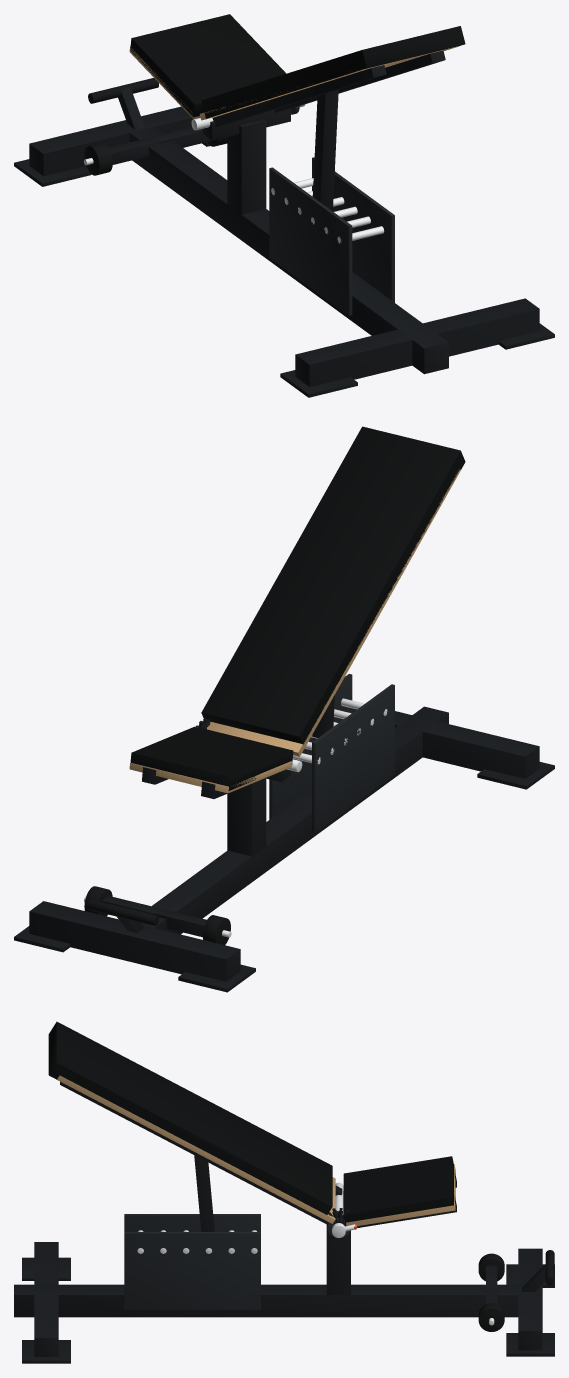
3 views of the same model, one above another, from view 1: azimuth 30°, elevation 25°; view 2: azimuth 150°, elevation 25°; view 3: azimuth 270°, elevation 25° (orthographic). The views are drawn at different scales.
Visible parts, largest first — view 1: frame, pad.001, frame.001, shroud, pad, shroud.001, frame.004, frame.007, frame.013, frame.009, frame.010, frame.008 (+9 smaller); view 2: pad, frame, frame.004, shroud, pad.001, frame.001, frame.007, shroud.001, wood, wood.001, frame.002, frame.005 (+2 smaller); view 3: pad, frame, shroud.001, pad.001, frame.001, frame.004, shroud, wood, frame.007, frame.010, frame.013, frame.003 (+5 smaller).
Part boxes in pixels (x1=…): frame: x1=129, y1=127, x2=448, y2=374; pad.001: x1=130, y1=14, x2=285, y2=117; frame.001: x1=295, y1=298, x2=539, y2=386; shroud: x1=269, y1=167, x2=352, y2=315; pad: x1=201, y1=26, x2=465, y2=118; shroud.001: x1=312, y1=157, x2=394, y2=302; frame.004: x1=29, y1=106, x2=199, y2=176; frame.007: x1=227, y1=119, x2=266, y2=224; frame.013: x1=312, y1=89, x2=338, y2=208; frame.009: x1=212, y1=65, x2=386, y2=127; frame.010: x1=274, y1=50, x2=445, y2=112; frame.008: x1=202, y1=109, x2=290, y2=140; pad: x1=201, y1=426, x2=465, y2=744; frame: x1=141, y1=706, x2=448, y2=934; frame.004: x1=29, y1=901, x2=240, y2=981; shroud: x1=312, y1=684, x2=394, y2=832; pad.001: x1=130, y1=726, x2=293, y2=790; frame.001: x1=352, y1=708, x2=539, y2=778; frame.007: x1=227, y1=778, x2=266, y2=856; shroud.001: x1=269, y1=674, x2=352, y2=819; wood: x1=207, y1=469, x2=460, y2=756; wood.001: x1=129, y1=761, x2=291, y2=793; frame.002: x1=477, y1=762, x2=554, y2=789; frame.005: x1=178, y1=964, x2=255, y2=992; pad: x1=48, y1=1021, x2=332, y2=1214; frame: x1=14, y1=1284, x2=518, y2=1317; shroud.001: x1=124, y1=1232, x2=260, y2=1309; pad.001: x1=343, y1=1156, x2=453, y2=1225; frame.001: x1=34, y1=1242, x2=58, y2=1356; frame.004: x1=518, y1=1248, x2=542, y2=1350; shroud: x1=124, y1=1214, x2=260, y2=1231; wood: x1=57, y1=1075, x2=335, y2=1223; frame.007: x1=326, y1=1225, x2=350, y2=1294; frame.010: x1=60, y1=1081, x2=338, y2=1224; frame.013: x1=194, y1=1155, x2=214, y2=1231; frame.003: x1=22, y1=1340, x2=70, y2=1363.
Size of the model in its own units: 0.75 by 0.9167 by 1.67.
